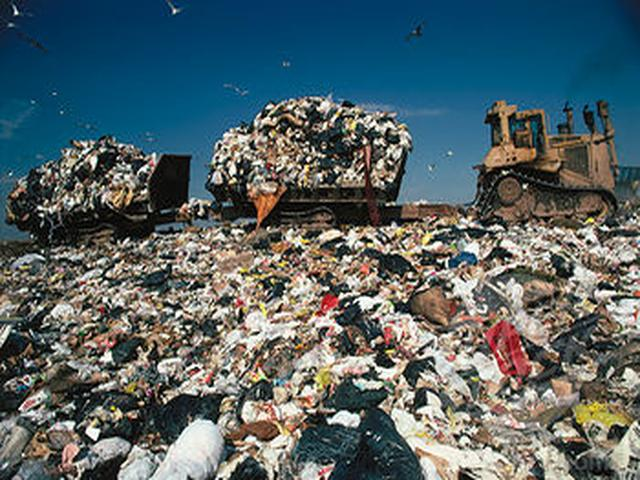garbage: (31, 263, 629, 465), (234, 129, 396, 183), (45, 160, 138, 214)
